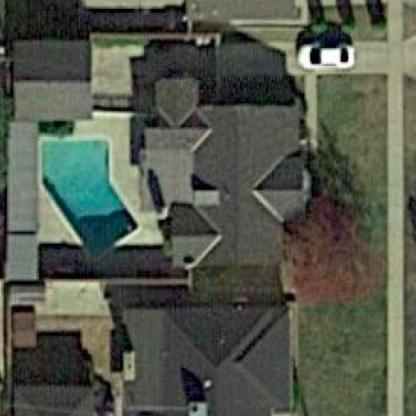car: (292, 33, 364, 80)
swimming_pool: (28, 121, 144, 266)
